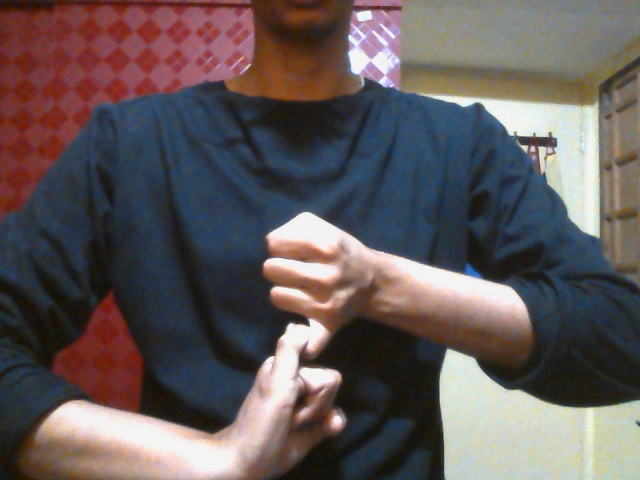S: (230, 206, 378, 480)
